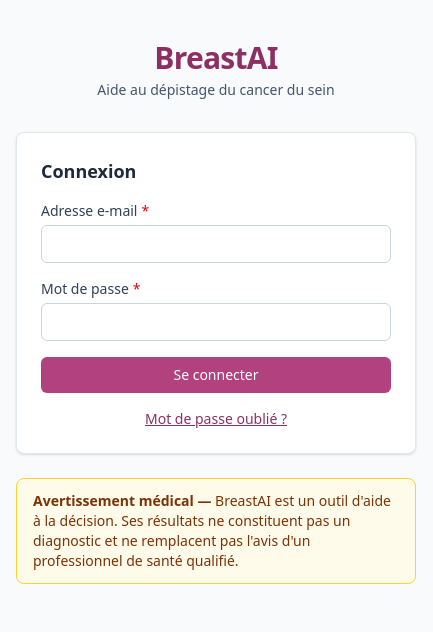
Test: Connexion › reste sur la page de connexion après un échec
The width and height of the screenshot is (433, 632).
Type "inconnu@breastai.td" into the field labelled "Adresse e-mail*".
click(216, 244); type("inconnu@breastai.td")  # box [41,225,391,263]
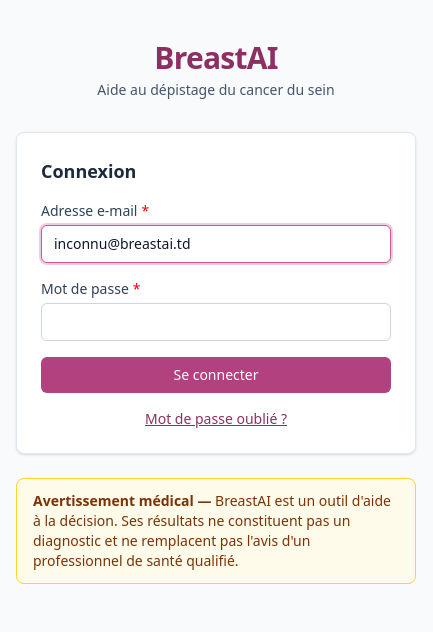
Type "mauvais" into the password field labelled "Mot de passe*".
click(216, 322); type("mauvais")  # box [41,303,391,341]
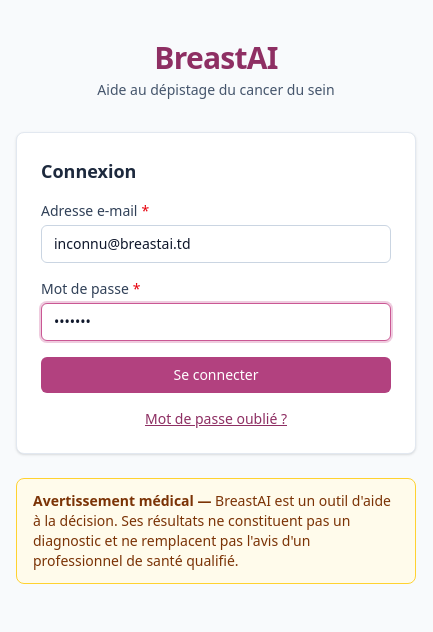
Click the button "Se connecter".
click(216, 375)  # box [41,357,391,393]
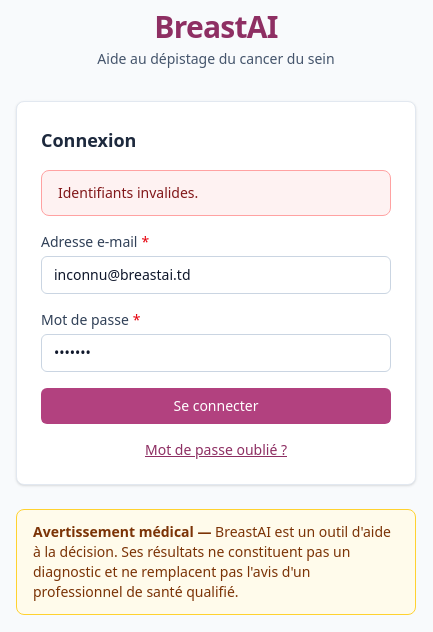
Expected: the heading "Connexion" is shown, [41,128,136,152]
Result: the message "Identifiants invalides." is shown at [41,170,391,216]
